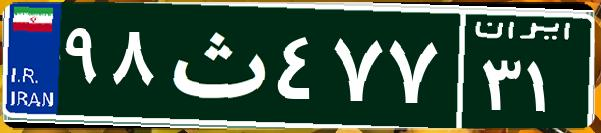1: (525, 38, 570, 115)
3: (475, 38, 525, 113)
4: (273, 28, 330, 110)
7: (385, 28, 445, 110), (330, 28, 385, 110)
8: (110, 28, 158, 105)
9: (57, 26, 110, 107)
ث: (158, 15, 273, 115)
